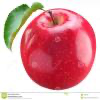Apple leaf: (3, 1, 46, 54)
